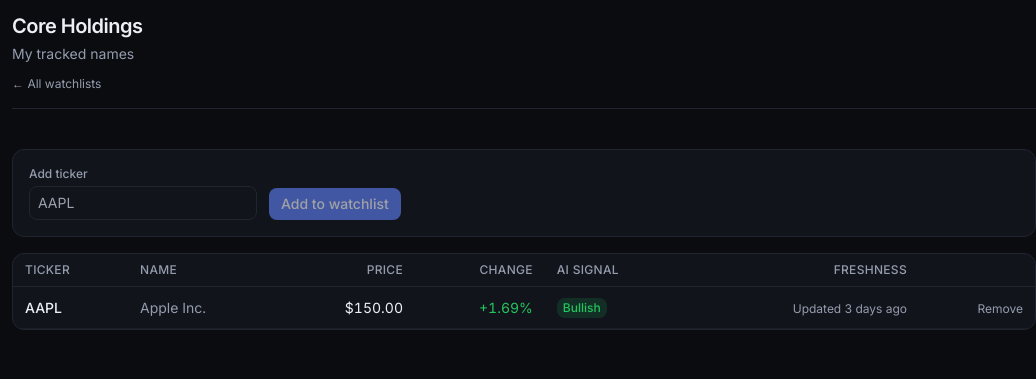
Test: WatchlistDetailPage › adds a ticker and shows a known error message on failure
Expected: the text "AAPL" is shown, [25,298,62,316]
Type "zzzz" into the field labelled "Add ticker". click: x=143, y=203
box: [29,186,257,220]
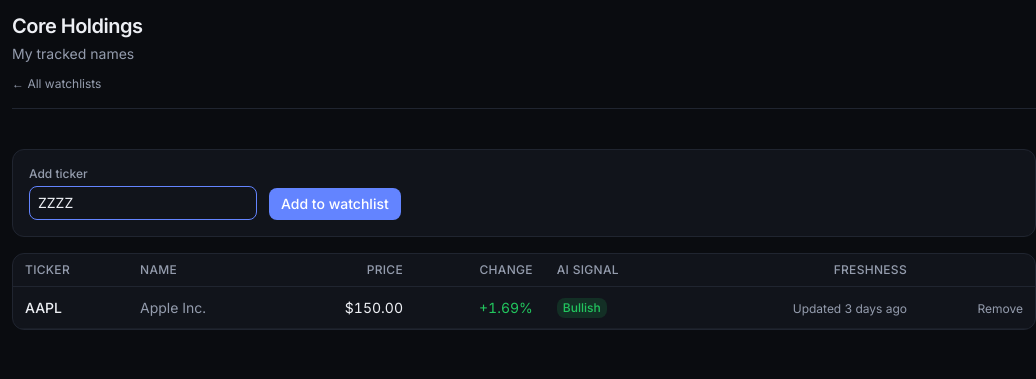
Click the button "Add to watchlist". click: x=335, y=204
box: [269,188,401,220]
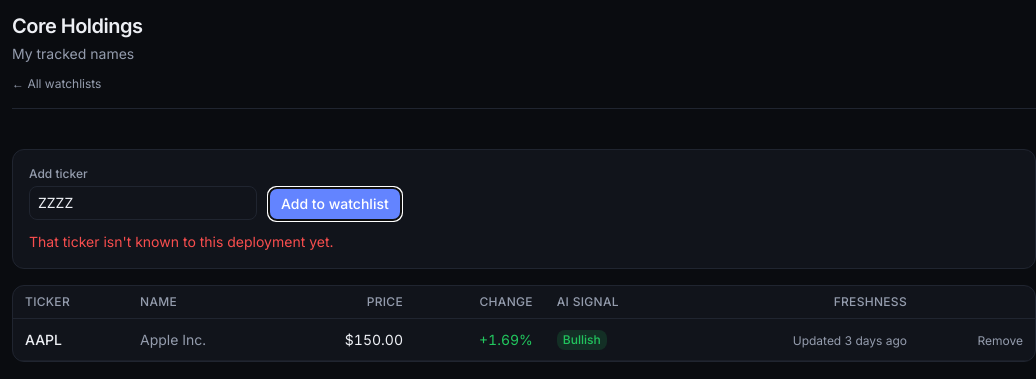
Expected: the text "That ticker isn't known to this deployment yet." is shown, [29,233,334,250]
